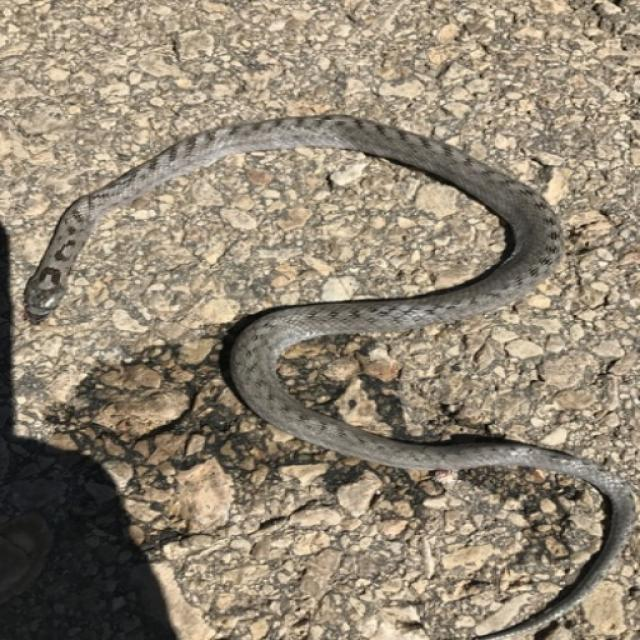snake: (21, 106, 640, 640)
